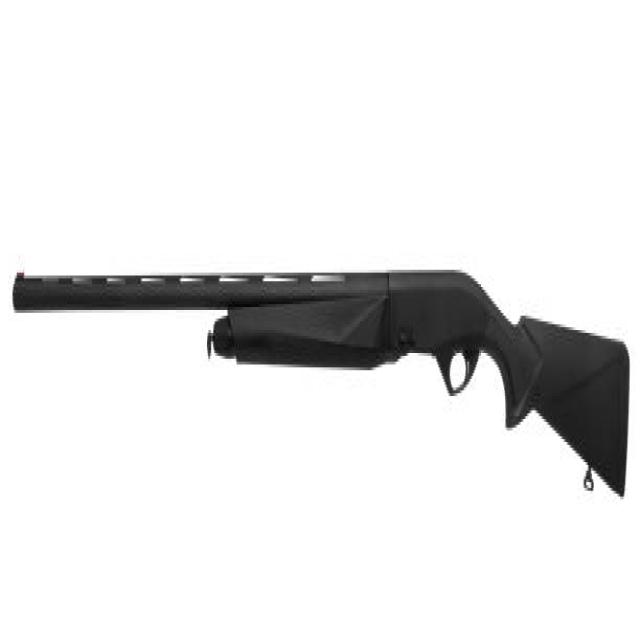rifle: (9, 235, 634, 530)
